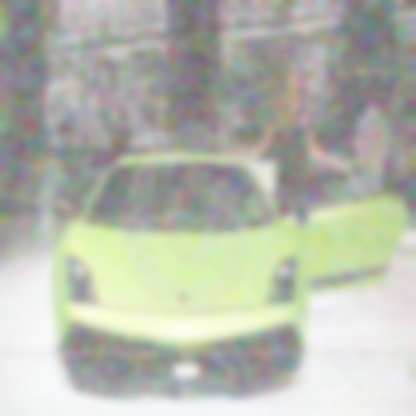Vehicle: (53, 150, 414, 391)
